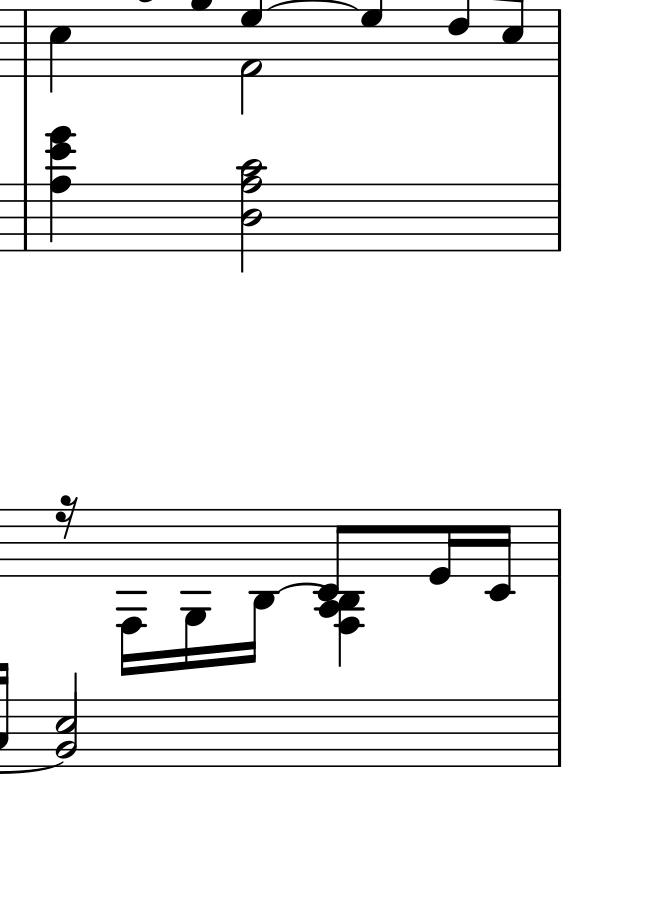16_-2: (486, 507, 513, 604)
16_-3: (179, 507, 211, 673), (244, 506, 277, 666)
16_-6: (115, 508, 148, 679)
16_0: (427, 507, 459, 587)
2_2_5: (55, 671, 80, 771)
2_th: (236, 158, 267, 273)
4_5: (47, 7, 73, 95)
4_th: (43, 124, 79, 254)
Rests16: (54, 494, 79, 540)
Single_barline: (17, 182, 36, 251), (16, 11, 35, 77), (550, 183, 567, 252), (550, 699, 567, 768), (551, 9, 567, 77), (551, 509, 567, 577)
